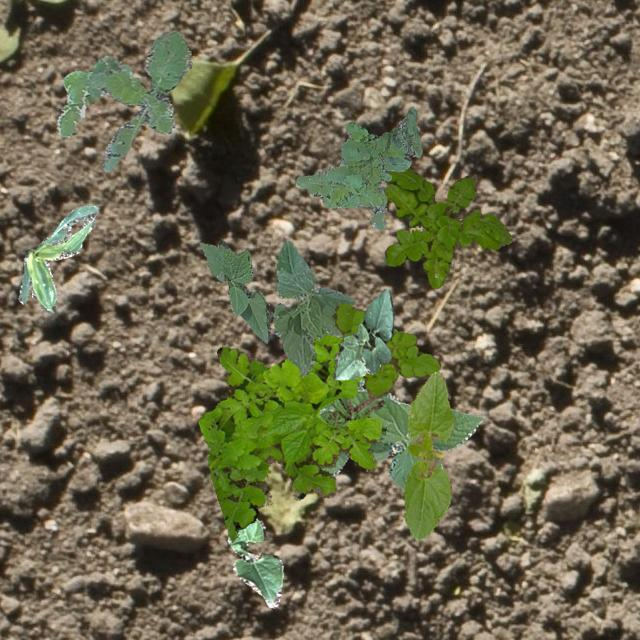crop: (318, 378, 482, 490), (272, 240, 354, 376), (402, 370, 453, 540), (18, 204, 98, 312), (198, 240, 270, 342), (332, 287, 392, 378), (226, 516, 282, 608)
weed: (198, 332, 380, 540), (56, 30, 190, 170), (294, 106, 422, 230), (382, 166, 510, 286), (332, 302, 438, 398), (324, 394, 384, 436)
